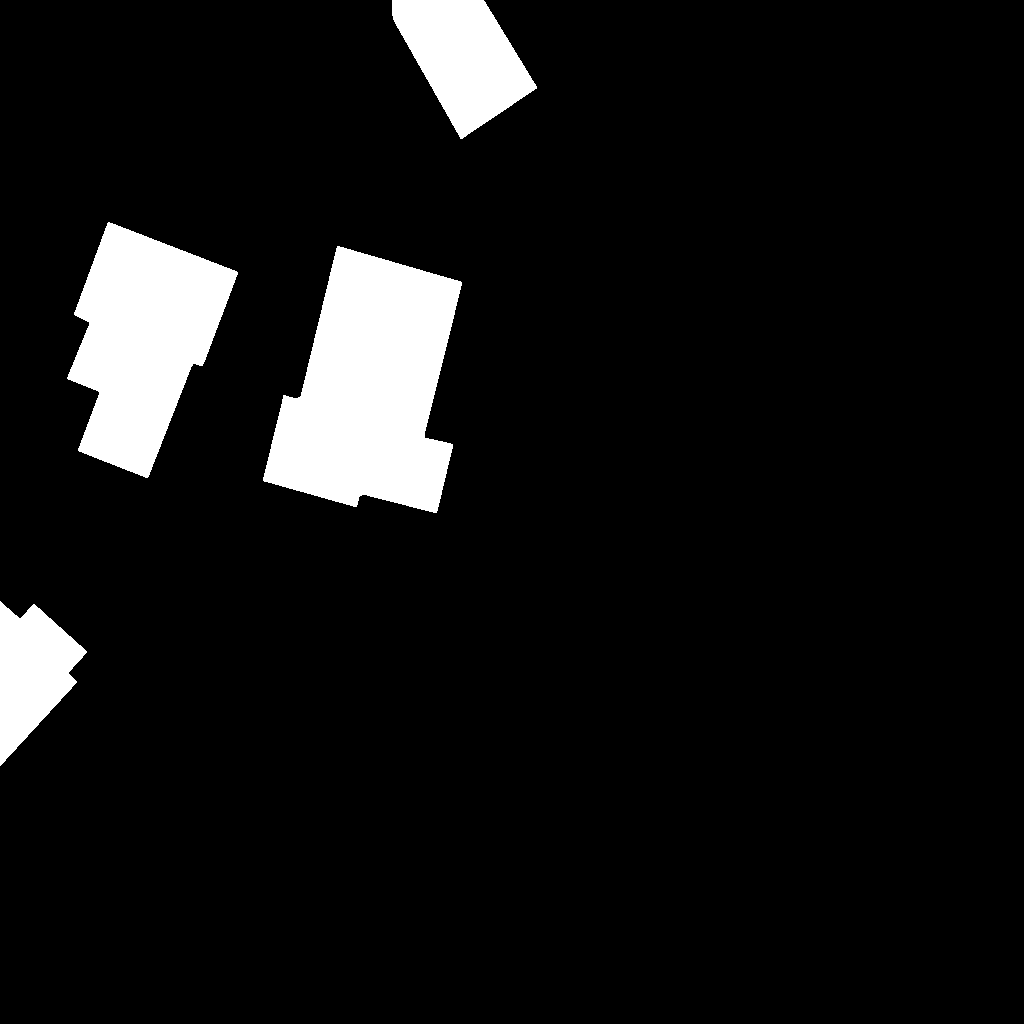building: (263, 246, 463, 514), (67, 222, 239, 479), (392, 0, 538, 140), (0, 601, 88, 767)
